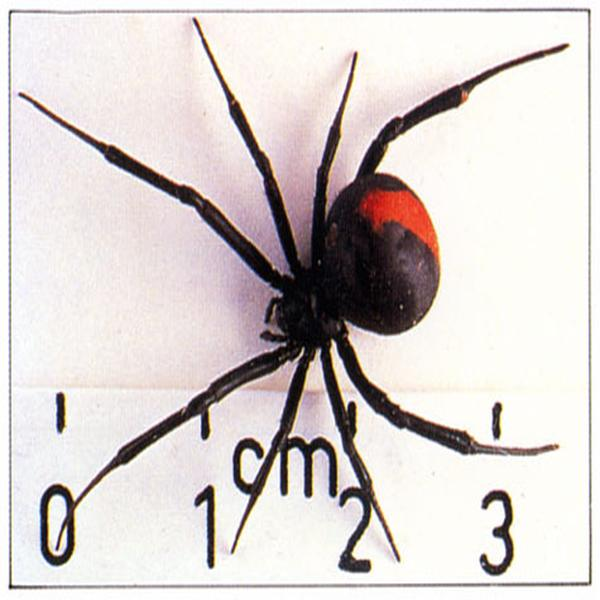Redback Spider: (17, 15, 559, 565)
